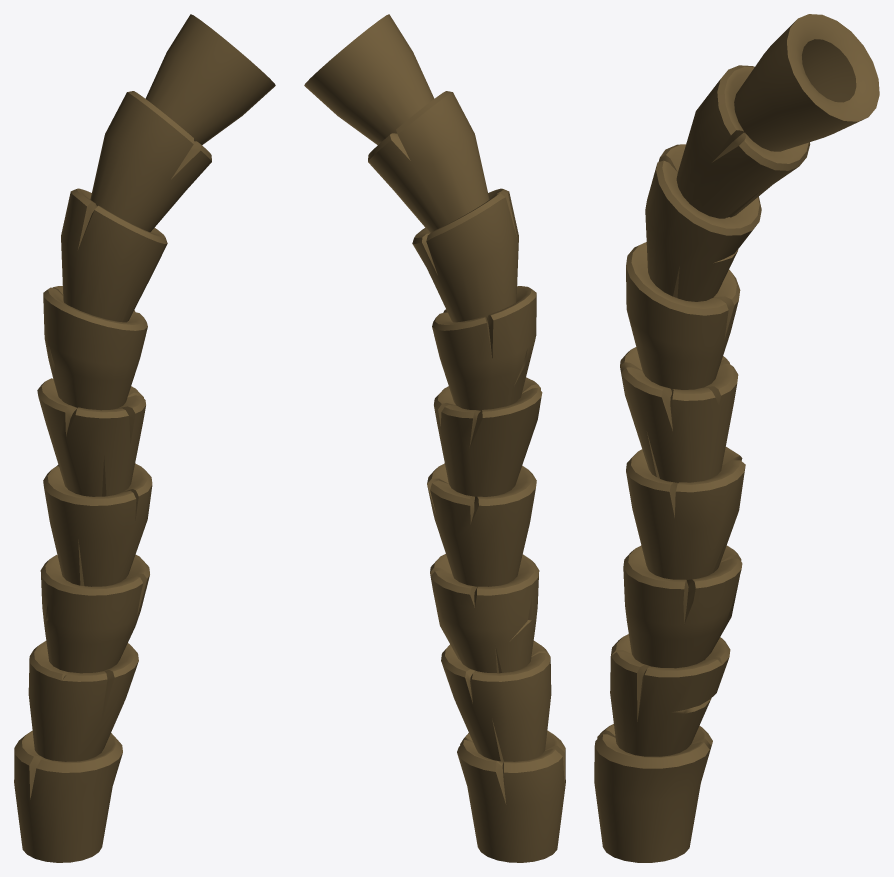
Rendered from PalmSwineBase.fbx.
The picture shows the model from 3 angles, left to right: view 1: azimuth 30°, elevation 25°; view 2: azimuth 150°, elevation 25°; view 3: azimuth 330°, elevation 25°; orthographic projection. The views are drawn at different scales.
Visible parts, largest first — view 1: M_PalmSwineBase; view 2: M_PalmSwineBase; view 3: M_PalmSwineBase.
Boxes of the visible parts, x1=… form: M_PalmSwineBase: x1=14, y1=14, x2=275, y2=862; M_PalmSwineBase: x1=304, y1=14, x2=565, y2=862; M_PalmSwineBase: x1=594, y1=14, x2=879, y2=862.
Size of the model in its own units: 457 by 1411 by 180.
